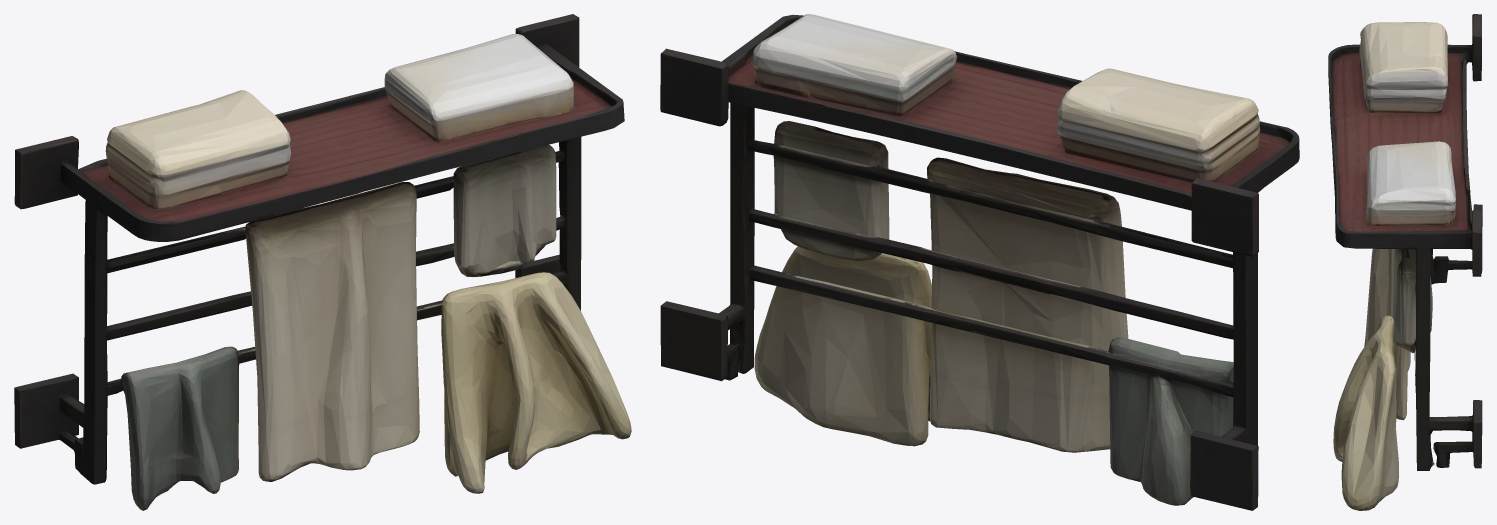
File: towel_rack_towels.glb
3 views of the same model, side by side, from view 1: azimuth 30°, elevation 25°; view 2: azimuth 150°, elevation 25°; view 3: azimuth 270°, elevation 25° (orthographic). The views are drawn at different scales.
Parts seen in each view (by area): view 1: geometry_0; view 2: geometry_0; view 3: geometry_0.
Part boxes in pixels (x1,y1,x2,y2): geometry_0: (14,14,631,510); geometry_0: (660,14,1299,510); geometry_0: (1328,14,1482,510).
Bounding box in the file's own units: 1 × 0.6894 × 0.299.
1 material, 1 textured.
